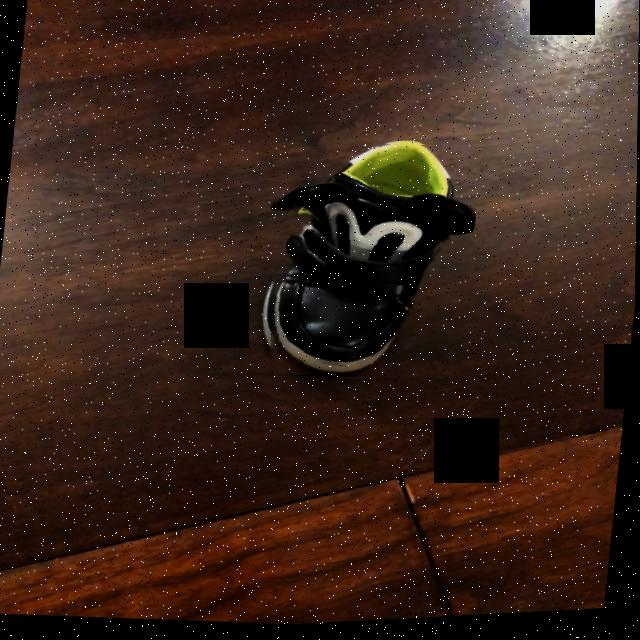shoe: (270, 148, 476, 380)
